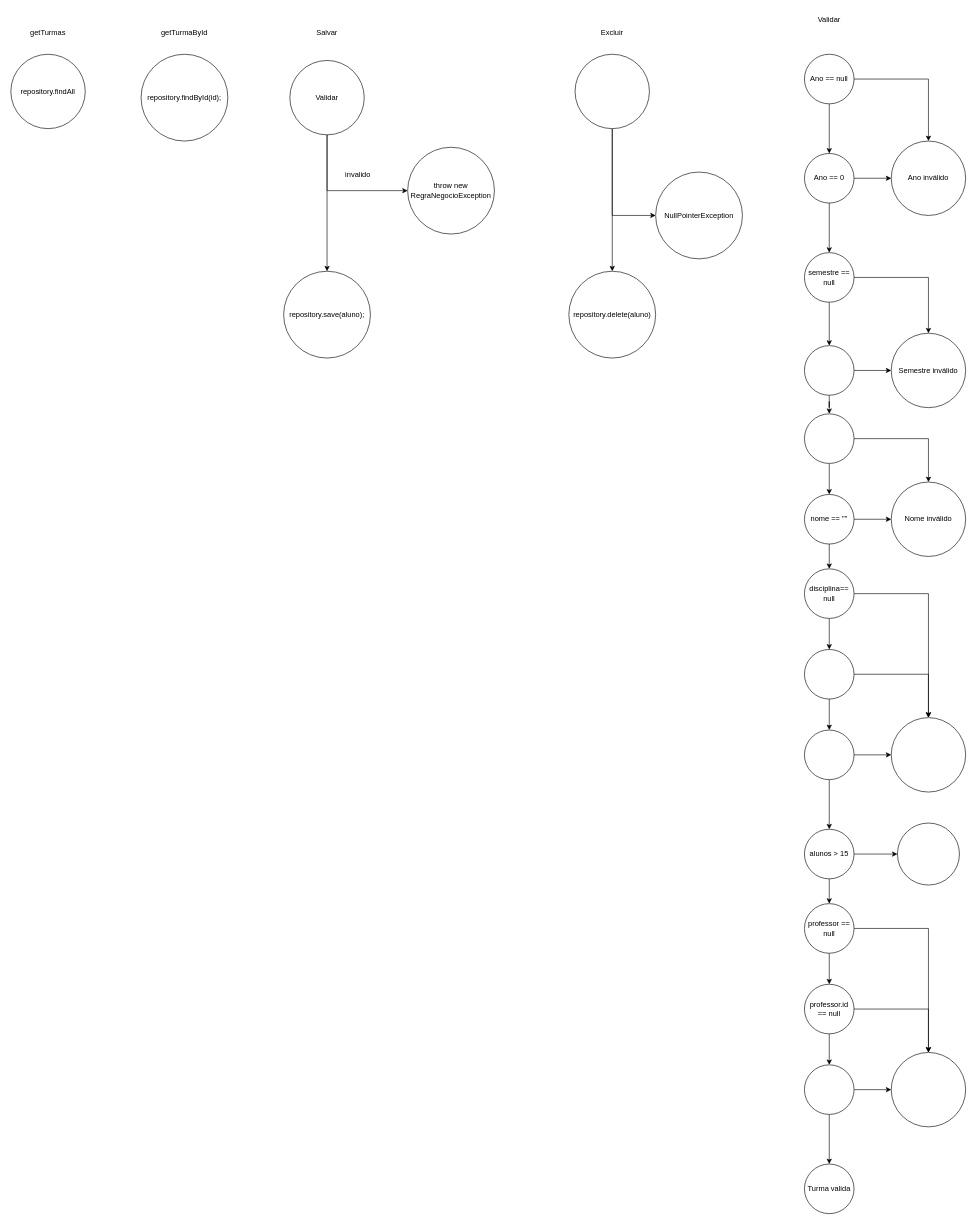
The diagram is 977 pixels wide and 1225 high, and some of its shapes have lost their labels. The box of each missing label's shape, as (x1, y1, x2, y2) in pixels:
Disciplina inválida: (891, 717, 966, 792)
disciplina.id == 0: (804, 729, 854, 780)
disciplina.id == null: (804, 649, 854, 699)
maximo de alunos na turma atingido: (897, 822, 959, 885)
nome == null: (804, 413, 854, 463)
NonNull: (574, 54, 649, 129)
professor.id == 0: (804, 1064, 854, 1114)
semestre == 0: (804, 345, 854, 395)
turma deve haver um professor: (891, 1052, 966, 1127)
